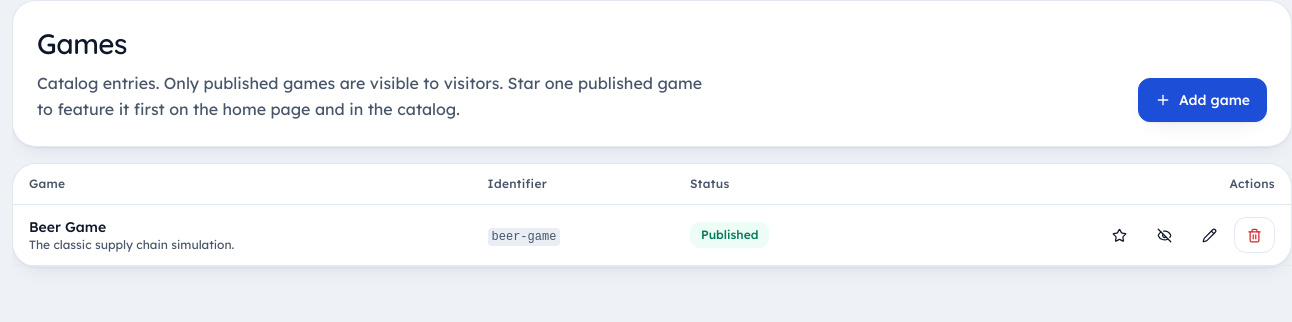
GamesList featured game › reports a failed change instead of failing silently
Click the button named "Feature Beer Game" at (1120, 235), box [1099,217,1140,253]
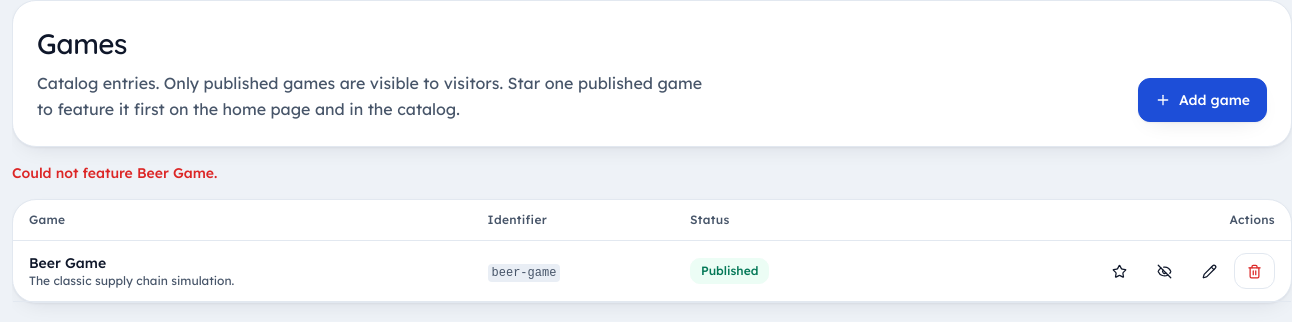
Check: the message reads "Could not feature Beer Game.", box [12,164,217,182]
